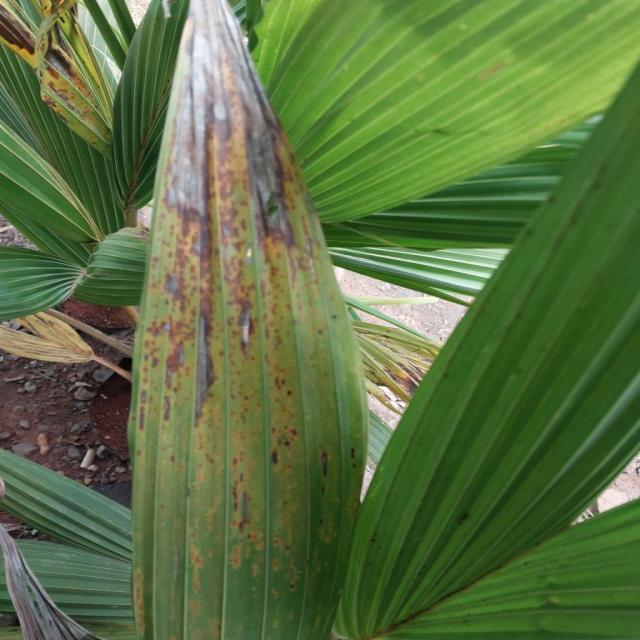gray leaf spot: (126, 0, 368, 640)
